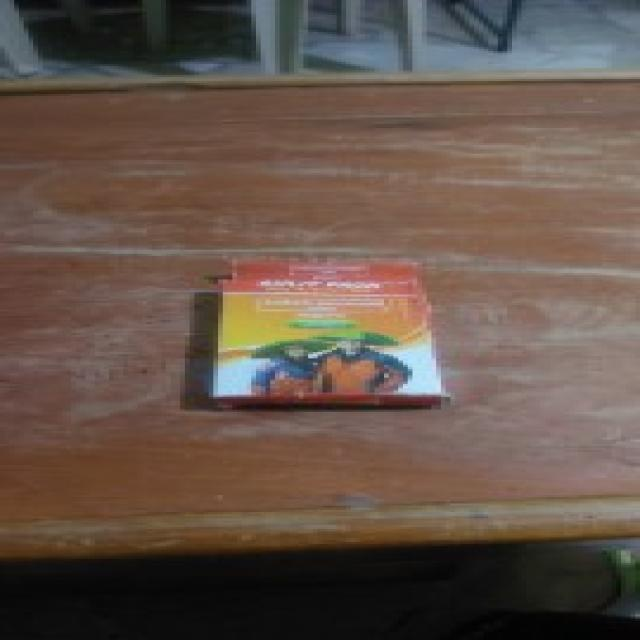Cacat: (204, 256, 438, 400)
